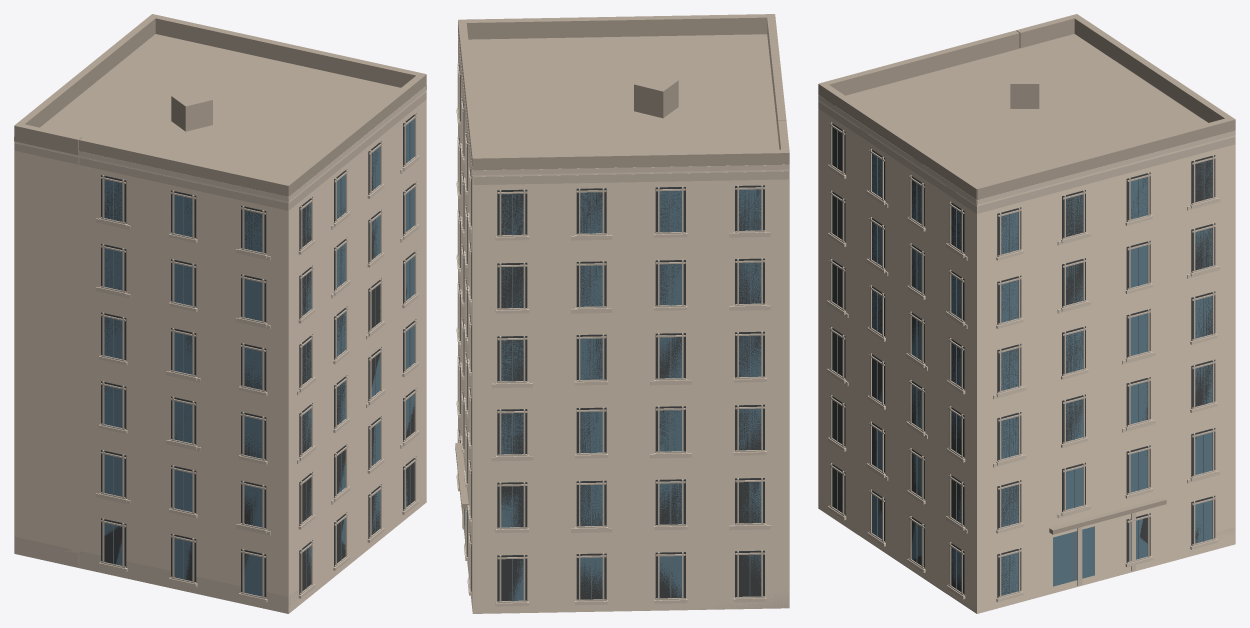
File: cop_predio_historico_04__way_488128351.fbx
The picture shows the model from 3 angles, left to right: view 1: azimuth 30°, elevation 25°; view 2: azimuth 150°, elevation 25°; view 3: azimuth 270°, elevation 25°; orthographic projection. The views are drawn at different scales.
Parts seen in each view (by area): view 1: cop_predio_historico_04__way_488128351_wall, cop_predio_historico_04__way_488128351_roof, cop_predio_historico_04__way_488128351_glass, cop_predio_historico_04__way_488128351_trim, cop_predio_historico_04__way_488128351_shadow, cop_predio_historico_04__way_488128351_stone, cop_predio_historico_04__way_488128351_metal; view 2: cop_predio_historico_04__way_488128351_wall, cop_predio_historico_04__way_488128351_roof, cop_predio_historico_04__way_488128351_shadow, cop_predio_historico_04__way_488128351_glass, cop_predio_historico_04__way_488128351_trim, cop_predio_historico_04__way_488128351_stone, cop_predio_historico_04__way_488128351_metal; view 3: cop_predio_historico_04__way_488128351_wall, cop_predio_historico_04__way_488128351_roof, cop_predio_historico_04__way_488128351_shadow, cop_predio_historico_04__way_488128351_glass, cop_predio_historico_04__way_488128351_trim, cop_predio_historico_04__way_488128351_stone, cop_predio_historico_04__way_488128351_metal.
Part boxes in pixels (x1=…): cop_predio_historico_04__way_488128351_wall: x1=14, y1=90, x2=426, y2=613; cop_predio_historico_04__way_488128351_roof: x1=14, y1=14, x2=426, y2=196; cop_predio_historico_04__way_488128351_glass: x1=104, y1=119, x2=414, y2=596; cop_predio_historico_04__way_488128351_trim: x1=14, y1=92, x2=426, y2=598; cop_predio_historico_04__way_488128351_shadow: x1=101, y1=113, x2=416, y2=598; cop_predio_historico_04__way_488128351_stone: x1=14, y1=85, x2=426, y2=613; cop_predio_historico_04__way_488128351_metal: x1=113, y1=122, x2=410, y2=594; cop_predio_historico_04__way_488128351_wall: x1=458, y1=48, x2=789, y2=613; cop_predio_historico_04__way_488128351_roof: x1=455, y1=14, x2=789, y2=508; cop_predio_historico_04__way_488128351_shadow: x1=458, y1=64, x2=764, y2=602; cop_predio_historico_04__way_488128351_glass: x1=464, y1=189, x2=761, y2=600; cop_predio_historico_04__way_488128351_trim: x1=457, y1=39, x2=788, y2=602; cop_predio_historico_04__way_488128351_stone: x1=456, y1=33, x2=789, y2=613; cop_predio_historico_04__way_488128351_metal: x1=512, y1=190, x2=750, y2=601; cop_predio_historico_04__way_488128351_wall: x1=818, y1=99, x2=1235, y2=613; cop_predio_historico_04__way_488128351_roof: x1=818, y1=14, x2=1235, y2=534; cop_predio_historico_04__way_488128351_shadow: x1=830, y1=122, x2=1215, y2=597; cop_predio_historico_04__way_488128351_glass: x1=872, y1=154, x2=1212, y2=595; cop_predio_historico_04__way_488128351_trim: x1=818, y1=101, x2=1235, y2=598; cop_predio_historico_04__way_488128351_stone: x1=818, y1=95, x2=1235, y2=613; cop_predio_historico_04__way_488128351_metal: x1=837, y1=130, x2=1204, y2=593.
Bounding box in the file's own units: 1654 × 1912 × 1665.
